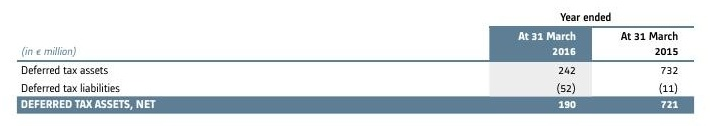table: (0, 0, 710, 126)
